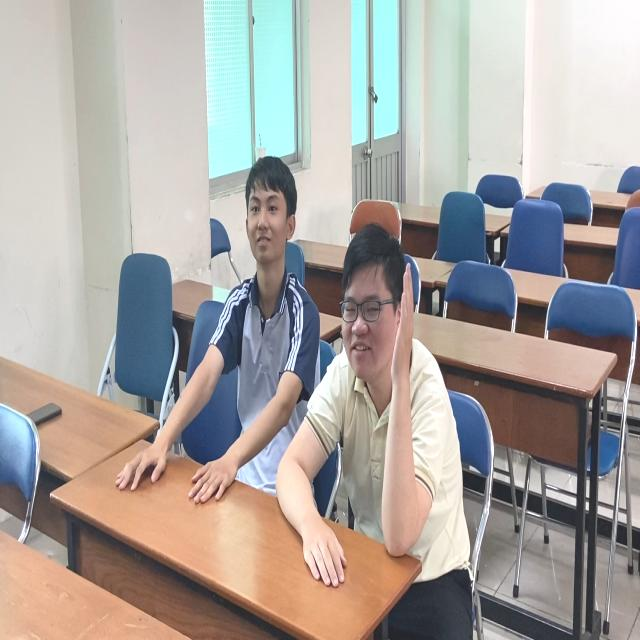raise_hand: (285, 217, 470, 563)
